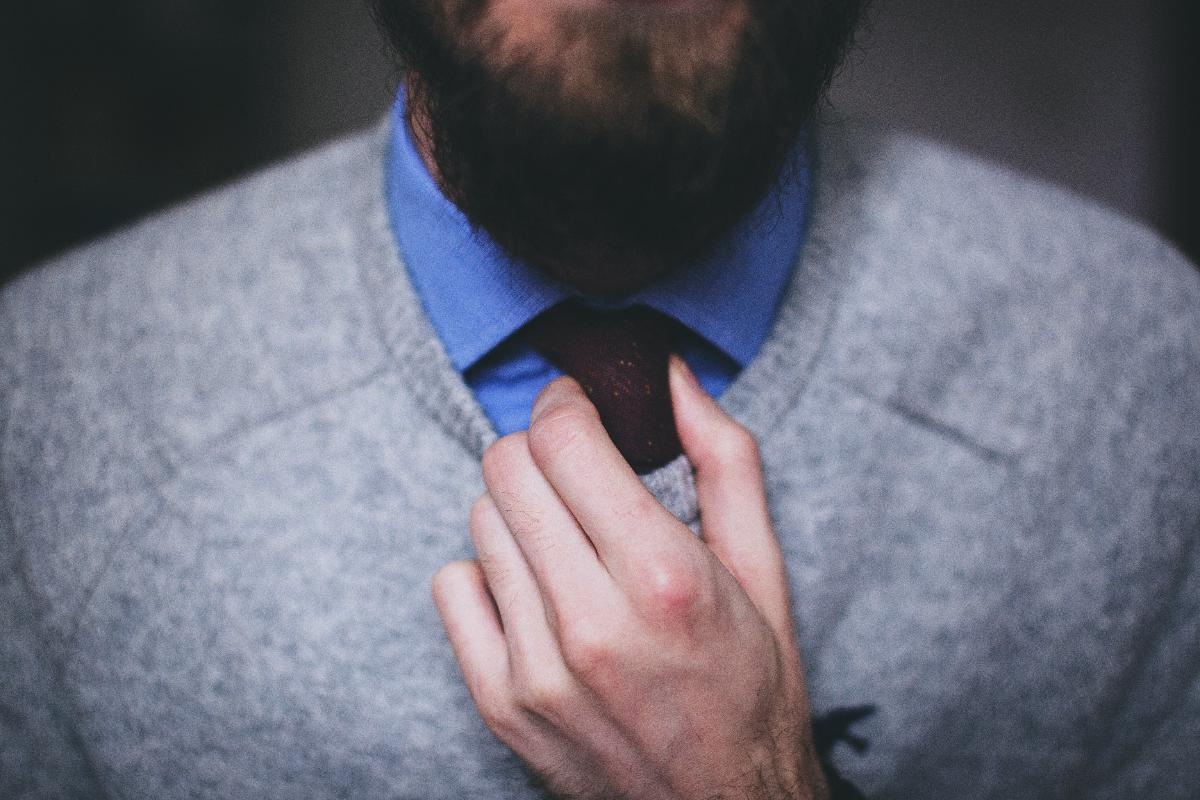Person: (4, 1, 1198, 800)
